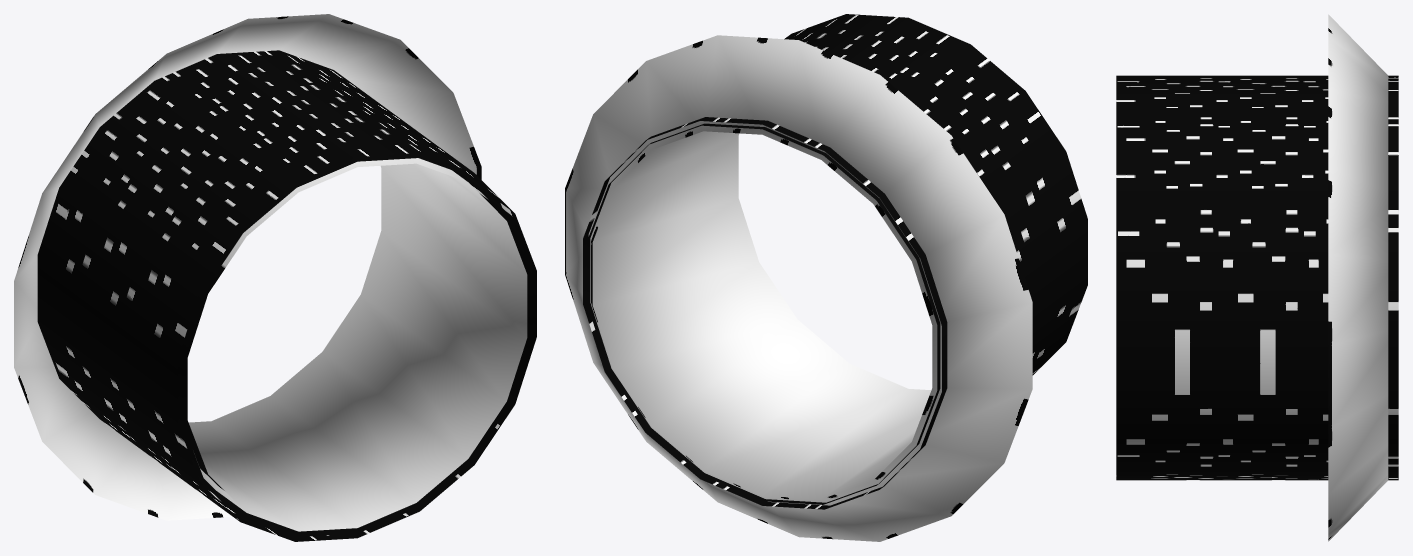
Rendered from Portal Blast Hacks.fbx.
3 renders of one model, left to right at view 1: azimuth 30°, elevation 25°; view 2: azimuth 150°, elevation 25°; view 3: azimuth 270°, elevation 25°, orthographic. The views are drawn at different scales.
Parts seen in each view (by area): view 1: Portal Gradient, Portal Lines 2, Portal Lines 1; view 2: Portal Gradient, Portal Lines 2, Portal Lines 1; view 3: Portal Lines 2, Portal Gradient.
Boxes of the visible parts, x1,y1,x2,y2 form: Portal Gradient: [14, 14, 527, 531]; Portal Lines 2: [37, 50, 536, 541]; Portal Lines 1: [178, 153, 532, 537]; Portal Gradient: [565, 35, 1032, 541]; Portal Lines 2: [583, 14, 1087, 509]; Portal Lines 1: [587, 123, 940, 504]; Portal Lines 2: [1116, 75, 1398, 480]; Portal Gradient: [1328, 14, 1388, 541].
Bounding box in the file's own units: 3.7 × 3.75 × 2.
